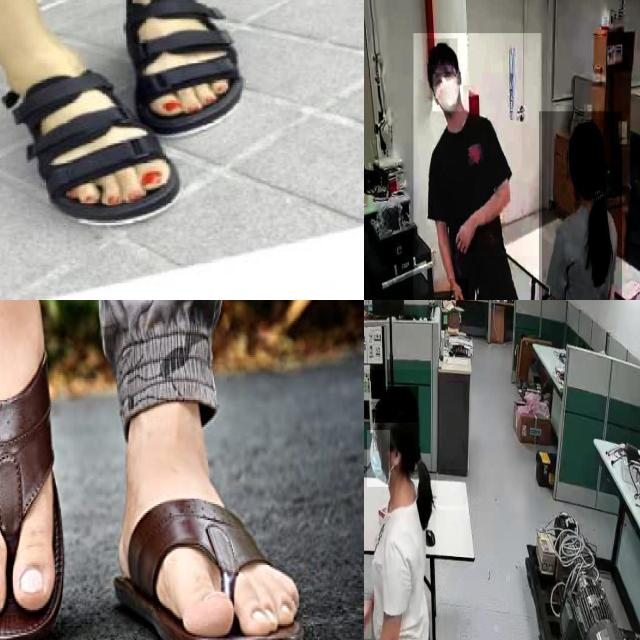Sandals: (111, 397, 303, 640), (0, 59, 185, 233), (0, 300, 66, 640), (115, 0, 249, 148)
face_mask: (367, 430, 390, 487), (433, 74, 463, 111)
hand_noglove: (453, 218, 478, 254), (450, 278, 469, 300), (364, 600, 372, 639)
head_nohelmet: (371, 386, 419, 424), (568, 119, 604, 157), (426, 38, 458, 66)
person: (413, 33, 542, 300), (364, 369, 436, 640), (539, 111, 622, 300)
